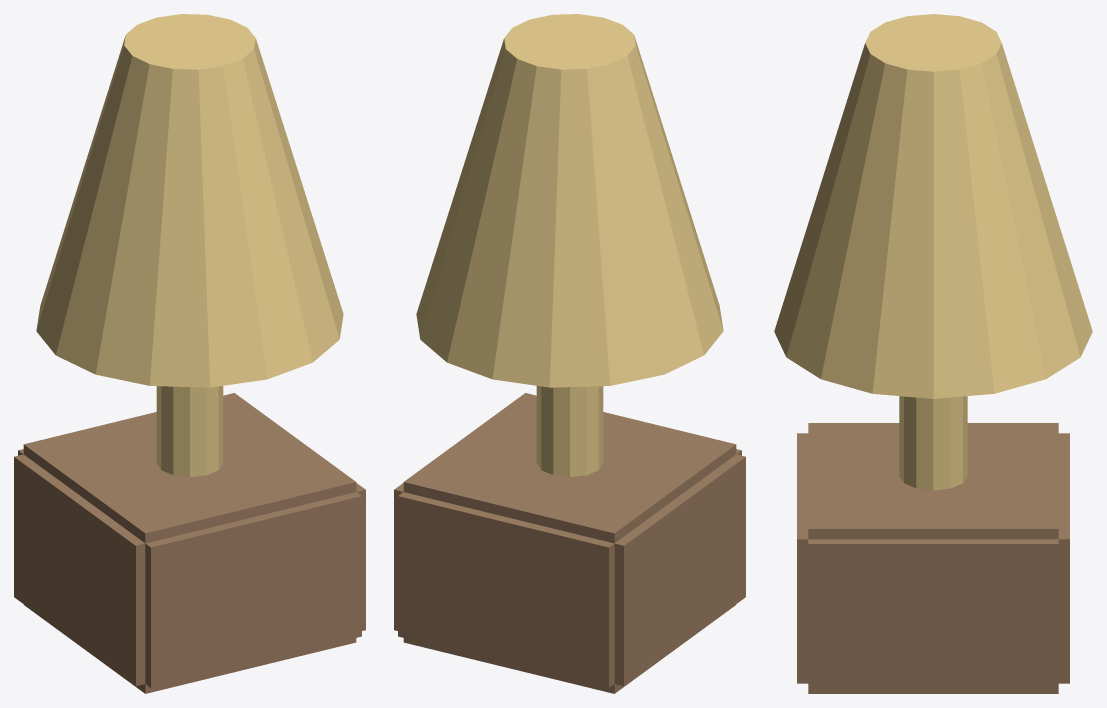
Rendered from trofeo.glb.
3 views of the same model, side by side, from view 1: azimuth 30°, elevation 25°; view 2: azimuth 150°, elevation 25°; view 3: azimuth 270°, elevation 25° (orthographic). The views are drawn at different scales.
Parts seen in each view (by area): view 1: trofeo; view 2: trofeo; view 3: trofeo.
Boxes of the visible parts, bbox=[...] form: trofeo: bbox=[14, 14, 365, 693]; trofeo: bbox=[394, 14, 745, 693]; trofeo: bbox=[774, 14, 1092, 693].
Bounding box in the file's own units: 0.14 × 0.29 × 0.14.
